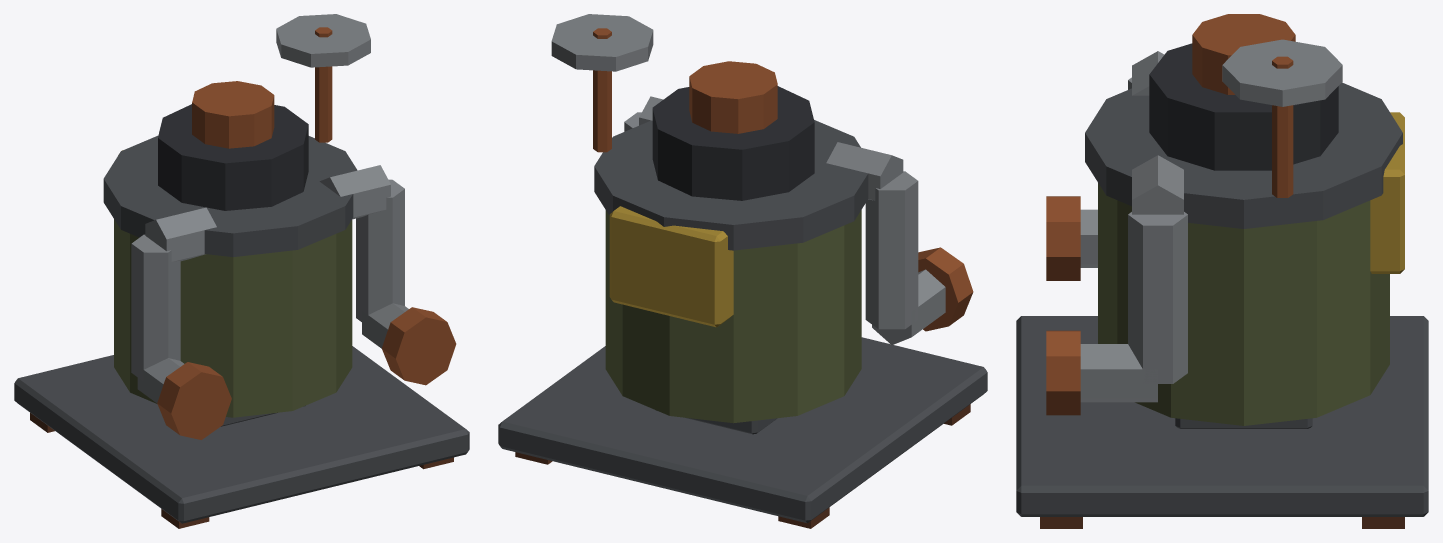
File: piece_pump.fbx
3 views of the same model, side by side, from view 1: azimuth 30°, elevation 25°; view 2: azimuth 150°, elevation 25°; view 3: azimuth 270°, elevation 25° (orthographic). The views are drawn at different scales.
Visible parts, largest first — view 1: piece_pump; view 2: piece_pump; view 3: piece_pump.
Boxes of the visible parts, x1,y1,x2,y2 form: piece_pump: (14,14,469,528); piece_pump: (498,14,987,528); piece_pump: (1016,14,1428,528).
Bounding box in the file's own units: 0.776 × 0.9236 × 0.768.
